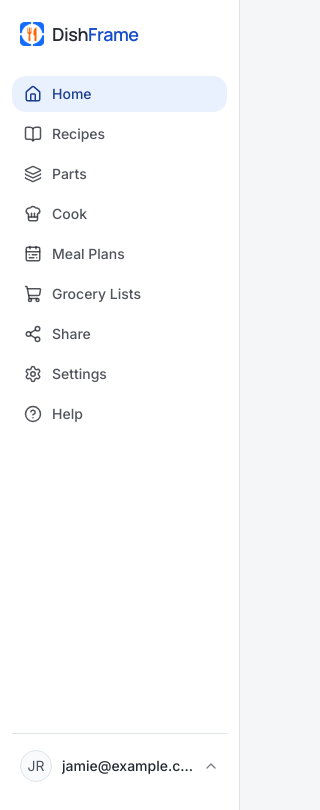
Scenario: SidebarNav › clicking the account row opens the existing Profile/sign-out menu
Click the button "JR jamie@example.com" at {"x": 120, "y": 766}, box [12, 742, 227, 790]
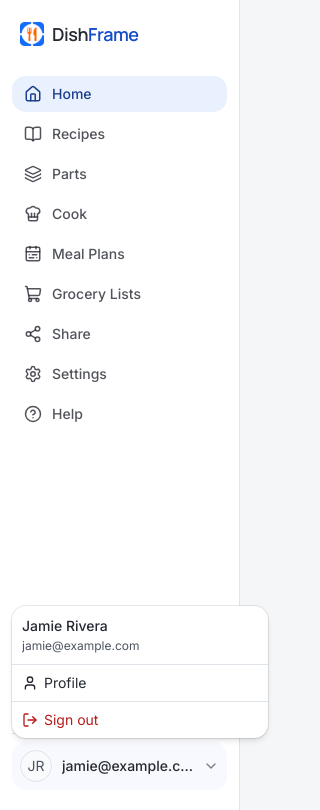
Expected: the text "Jamie Rivera" is shown, [22, 617, 108, 634]
Expected: the menu item "Profile" is shown, [22, 674, 86, 691]
